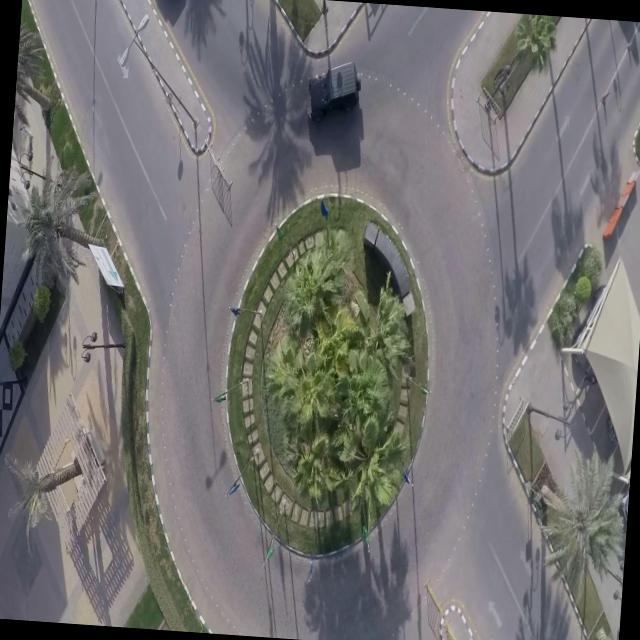car: (301, 58, 362, 122)
